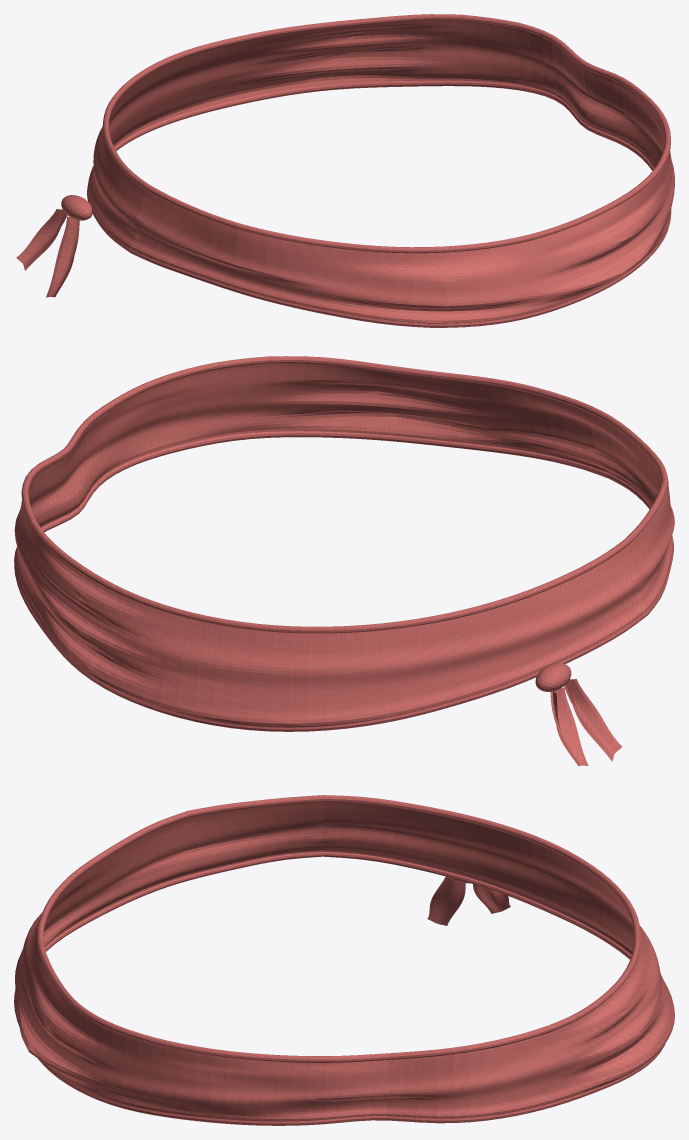
File: side_sachiko_hachimaki.glb
The picture shows the model from 3 angles, top to bottom: view 1: azimuth 30°, elevation 25°; view 2: azimuth 150°, elevation 25°; view 3: azimuth 270°, elevation 25°; orthographic projection. The views are drawn at different scales.
Visible parts, largest first — view 1: woven_cloth, inner_cloth, folded_edge, wrap_ties; view 2: woven_cloth, inner_cloth, folded_edge, wrap_ties; view 3: woven_cloth, inner_cloth, folded_edge, wrap_ties.
Part boxes in pixels (<box>): woven_cloth: <box>87,125,674,323</box>; inner_cloth: <box>109,20,664,167</box>; folded_edge: <box>61,14,671,327</box>; wrap_ties: <box>16,209,79,297</box>; woven_cloth: <box>14,485,674,727</box>; inner_cloth: <box>28,363,661,527</box>; folded_edge: <box>14,356,673,731</box>; wrap_ties: <box>550,678,622,766</box>; woven_cloth: <box>14,912,674,1121</box>; inner_cloth: <box>43,801,634,954</box>; folded_edge: <box>14,795,664,1125</box>; wrap_ties: <box>427,876,510,925</box>.
Size of the model in its own units: 18.6 by 4.86 by 18.74.
Materials: 4 (4 with a texture image).
